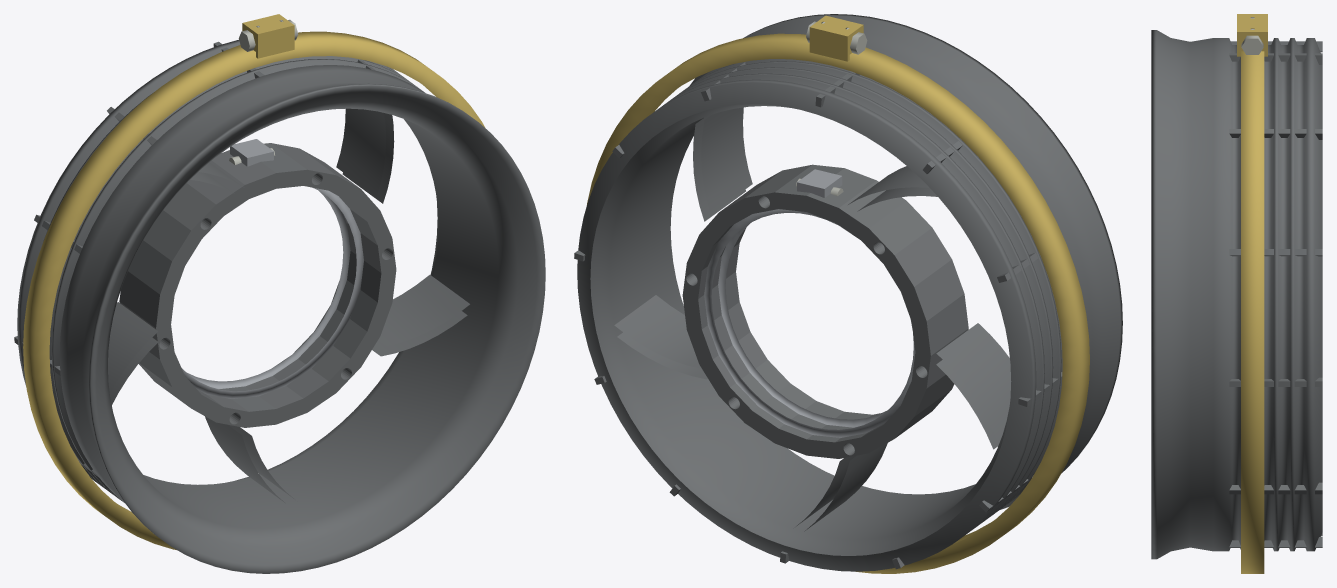
File: fan-housing.glb
The picture shows the model from 3 angles, left to right: view 1: azimuth 30°, elevation 25°; view 2: azimuth 150°, elevation 25°; view 3: azimuth 270°, elevation 25°; orthographic projection. The views are drawn at different scales.
Visible parts, largest first — view 1: fan-housing:magCast, fan-housing:yellowZinc, fan-housing:steel; view 2: fan-housing:magCast, fan-housing:yellowZinc, fan-housing:steel; view 3: fan-housing:magCast, fan-housing:yellowZinc, fan-housing:zincPlate.
Boxes of the visible parts, x1,y1,x2,y2 form: fan-housing:magCast: (14, 40, 545, 573); fan-housing:yellowZinc: (23, 14, 485, 549); fan-housing:steel: (181, 139, 363, 398); fan-housing:magCast: (574, 14, 1122, 571); fan-housing:yellowZinc: (586, 15, 1089, 573); fan-housing:steel: (704, 169, 915, 437); fan-housing:magCast: (1151, 30, 1322, 559); fan-housing:yellowZinc: (1237, 14, 1267, 573); fan-housing:zincPlate: (1241, 17, 1263, 54).
Bounding box in the file's own units: 287 × 298 × 88.
